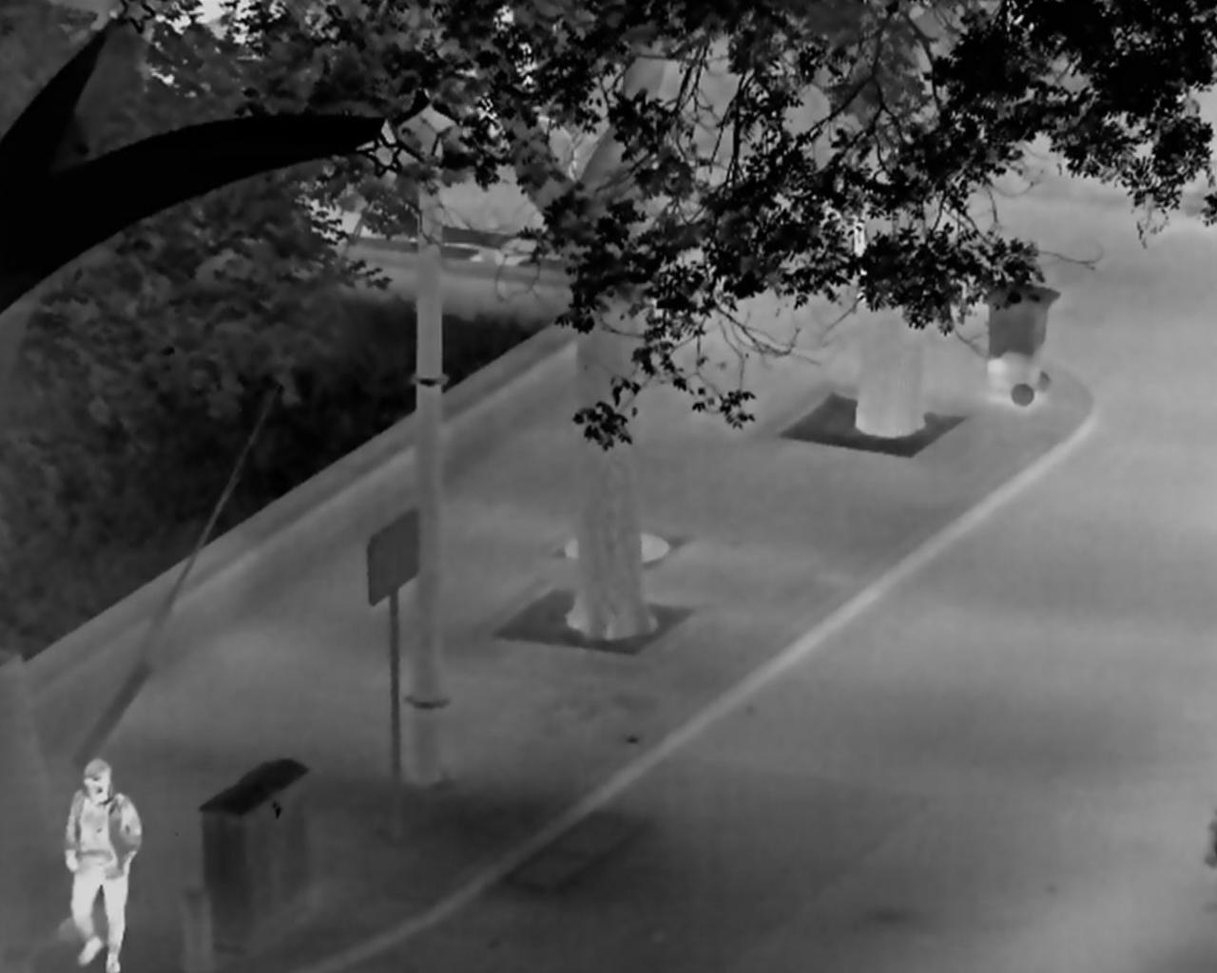person: (62, 755, 143, 973)
